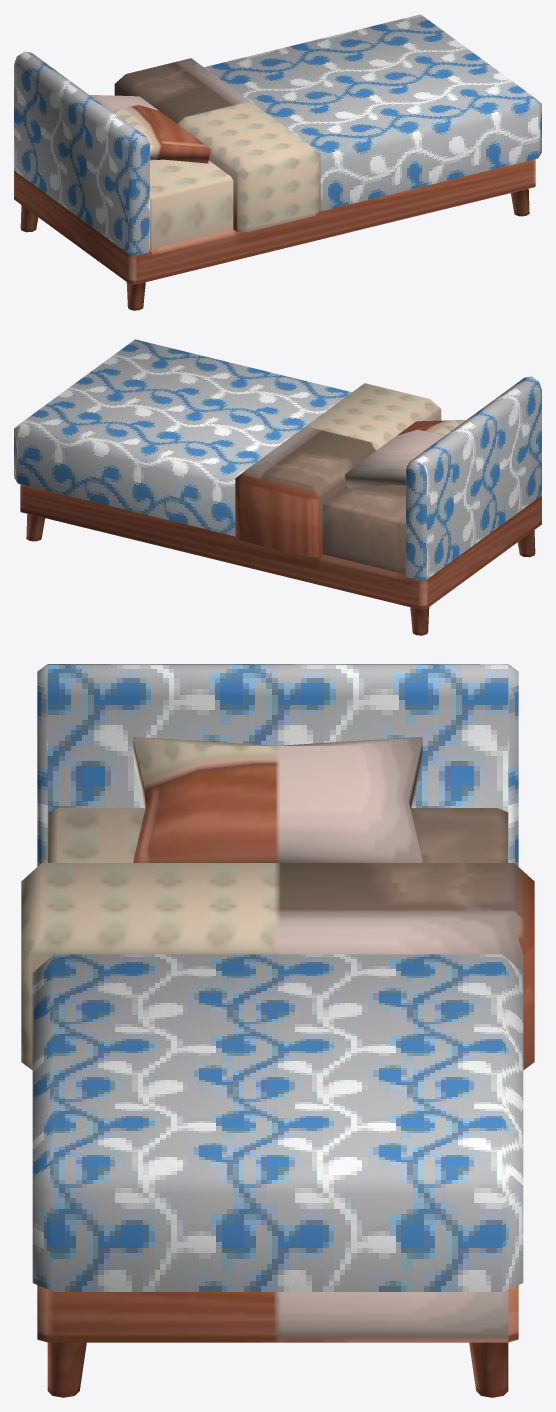
The model's file is rmk_scd_bedS uv fix.dae.
The picture shows the model from 3 angles, top to bottom: view 1: azimuth 30°, elevation 25°; view 2: azimuth 150°, elevation 25°; view 3: azimuth 270°, elevation 25°; orthographic projection. The views are drawn at different scales.
Visible parts, largest first — view 1: vsn_mesh_0_, vsn_mesh_1_; view 2: vsn_mesh_0_, vsn_mesh_1_; view 3: vsn_mesh_0_, vsn_mesh_1_.
Boxes of the visible parts, bbox=[...] form: vsn_mesh_0_: bbox=[14, 14, 541, 255]; vsn_mesh_1_: bbox=[14, 58, 535, 310]; vsn_mesh_0_: bbox=[14, 339, 541, 580]; vsn_mesh_1_: bbox=[20, 383, 541, 635]; vsn_mesh_0_: bbox=[32, 664, 523, 1291]; vsn_mesh_1_: bbox=[21, 736, 534, 1397].
Bounding box in the file's own units: 59.61 × 24 × 32.
Materials: 3 (3 with a texture image).
